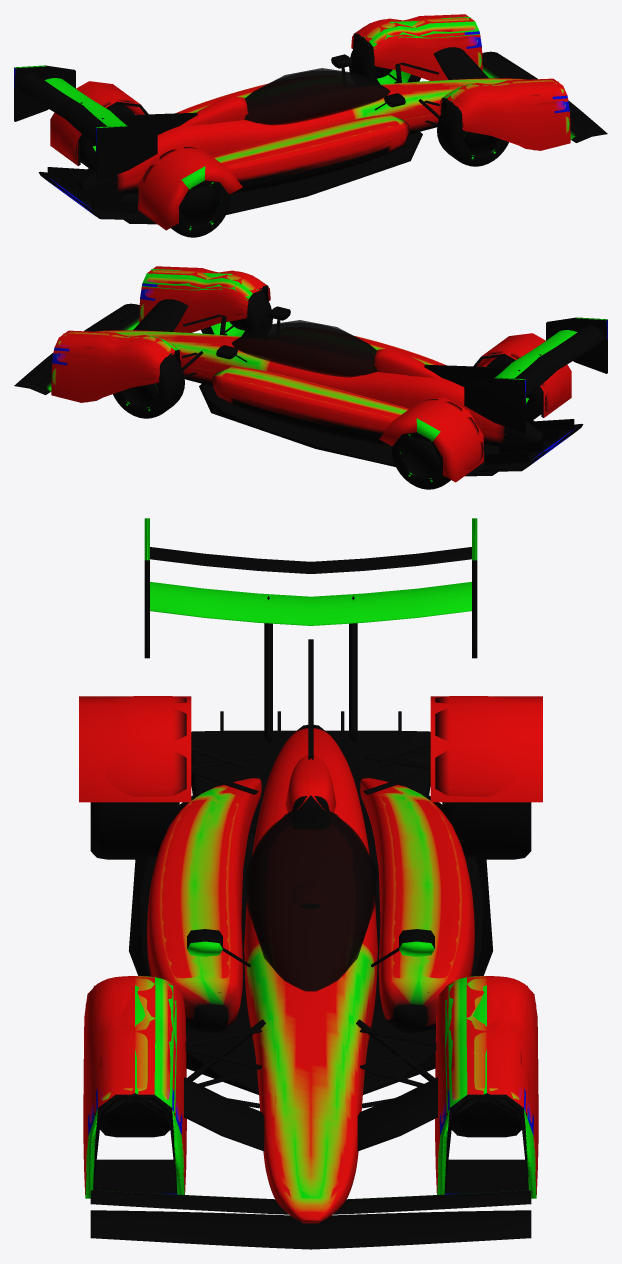
The model's file is stratos.glb.
The picture shows the model from 3 angles, top to bottom: view 1: azimuth 30°, elevation 25°; view 2: azimuth 150°, elevation 25°; view 3: azimuth 270°, elevation 25°; orthographic projection. The views are drawn at different scales.
Visible parts, largest first — view 1: body_L0, body_L1, body_L2, glass_L0, glass_L1, glass_L2, wheel_RR_L2, wheel_FR_L0, wheel_FR_L2, wheel_FL_L0, wheel_RR_L0, wheel_RL_L0 (+1 smaller); view 2: body_L0, body_L1, body_L2, glass_L0, glass_L2, glass_L1, wheel_RL_L2, wheel_FL_L0, wheel_FL_L2, wheel_FR_L0, wheel_RL_L0, wheel_RR_L0 (+2 smaller); view 3: body_L0, body_L1, body_L2, glass_L0, glass_L2, glass_L1, wheel_RR_L0, wheel_RL_L0, wheel_FL_L0, wheel_FR_L0.
Boxes of the visible parts, x1,y1,x2,y2 form: body_L0: (14,16,607,222); body_L1: (18,14,606,217); body_L2: (19,17,601,230); glass_L0: (244,70,389,125); glass_L1: (245,72,388,124); glass_L2: (245,68,390,124); wheel_RR_L2: (179,180,227,236); wheel_FR_L0: (437,104,508,166); wheel_FR_L2: (457,129,504,165); wheel_FL_L0: (349,39,420,81); wheel_RR_L0: (171,180,230,237); wheel_RL_L0: (80,104,135,169); body_L0: (14,268,607,474); body_L1: (16,266,603,465); body_L2: (18,269,602,482); glass_L0: (232,322,377,377); glass_L2: (231,320,376,375); glass_L1: (233,324,376,376); wheel_RL_L2: (394,432,442,488); wheel_FL_L0: (113,356,184,418); wheel_FL_L2: (117,381,164,417); wheel_FR_L0: (201,291,272,333); wheel_RL_L0: (391,432,450,489); wheel_RR_L0: (486,356,541,421); body_L0: (84,518,537,1249); body_L1: (83,549,538,1244); body_L2: (79,552,542,1239); glass_L0: (248,806,373,990); glass_L2: (245,809,376,991); glass_L1: (250,807,371,988); wheel_RR_L0: (90,802,179,859); wheel_RL_L0: (442,802,531,859); wheel_FL_L0: (451,1101,521,1137); wheel_FR_L0: (100,1101,170,1137).
Size of the model in its own units: 5.5 by 1.28 by 2.19.
